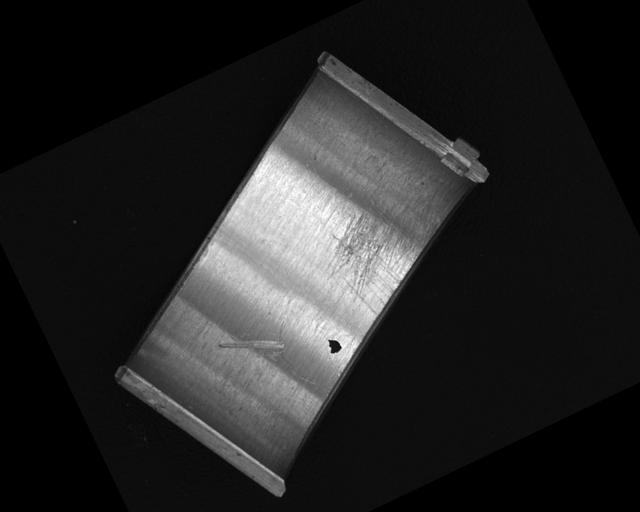blot: (324, 334, 344, 356)
nick: (216, 318, 289, 381), (267, 318, 321, 395)
scratch: (308, 185, 458, 330)
